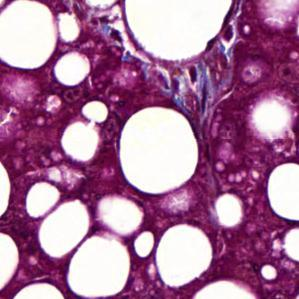steatosis: (116, 101, 200, 197), (66, 237, 133, 299), (155, 225, 212, 286)
